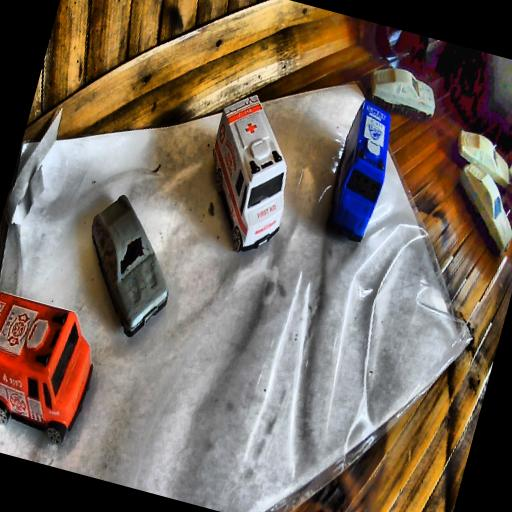ambulance: (190, 85, 312, 260)
fire_truck: (0, 288, 108, 450)
normal_car: (65, 188, 190, 342)
police car: (318, 94, 404, 246)
